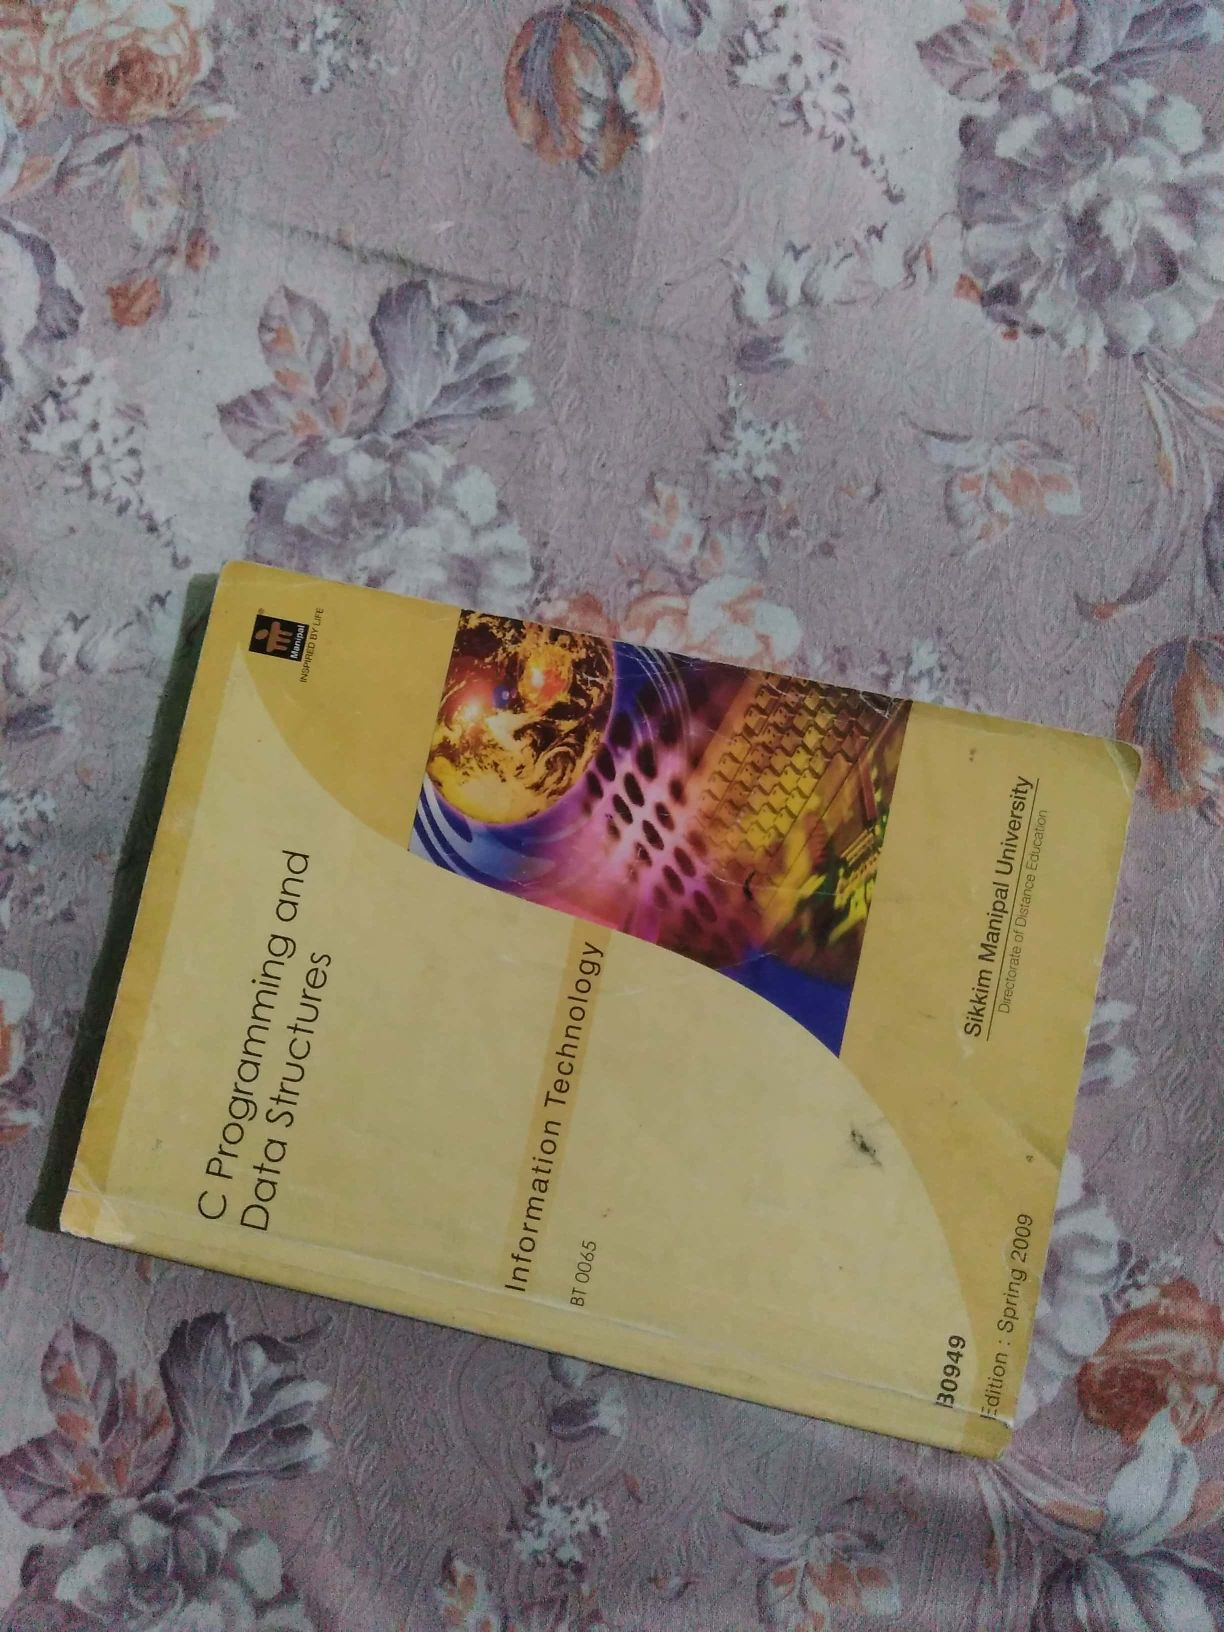clang: (81, 529, 1124, 1498)
